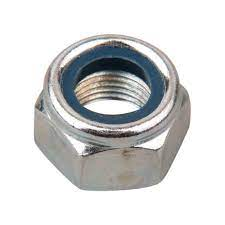Thread: (75, 56, 158, 133)
